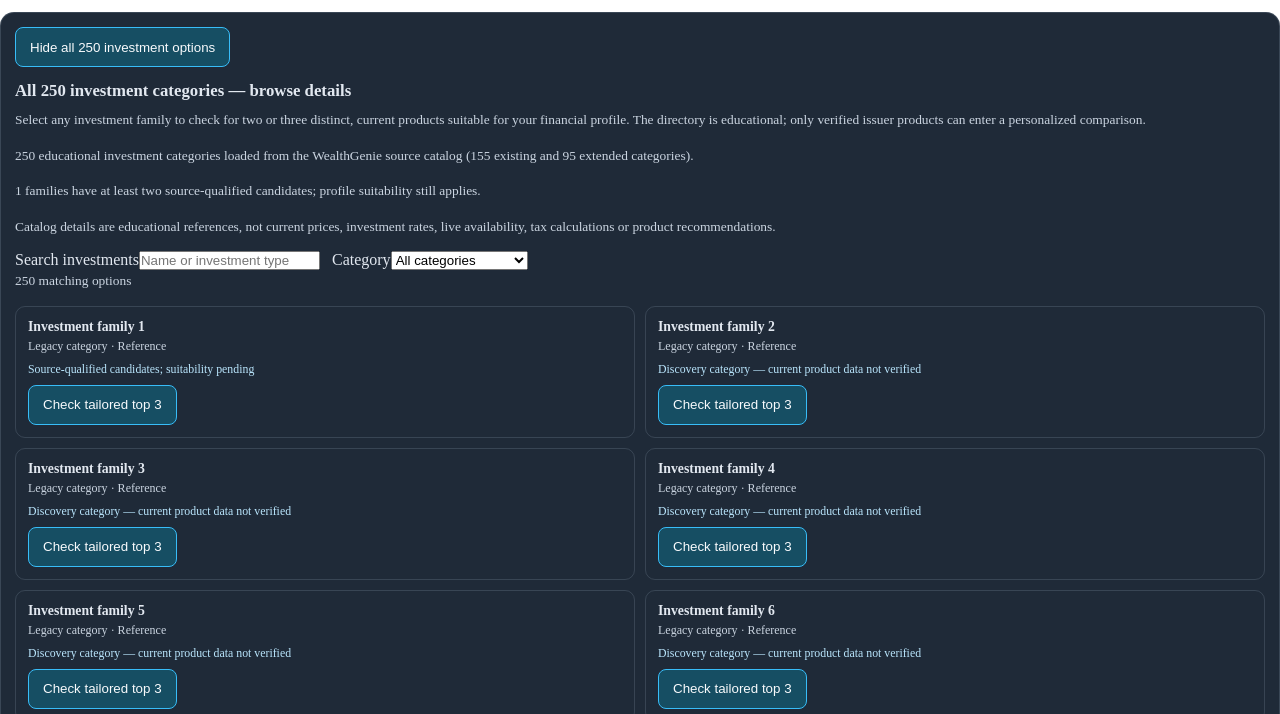
all 250 investment categories are browseable without product approval › shows detailed educational metadata without a current price, fake fees or tax
This screenshot has width=1280, height=714.
Expected: the text "Investment family 1" is shown, [28, 318, 145, 334]
Click the button with aria-label "Check tailored top 3 for Investment family 1". click: (102, 404)
box: [28, 384, 176, 424]
(page scrolled)
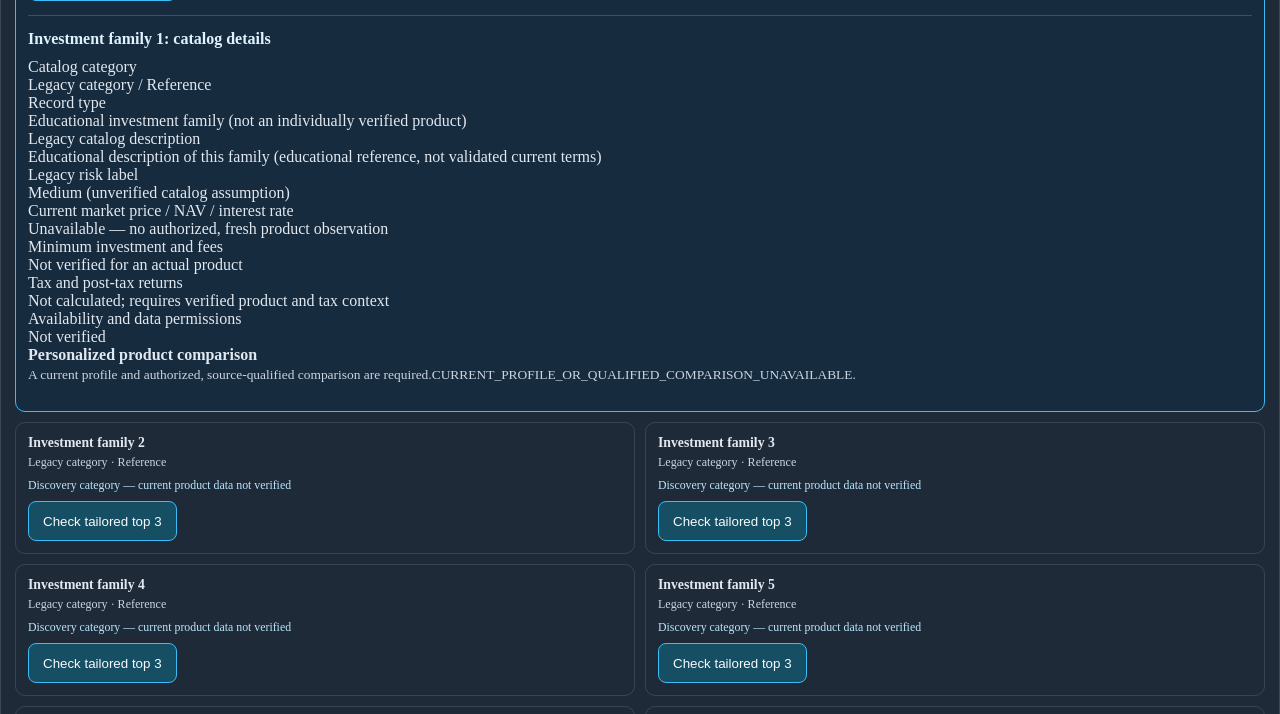
Expected: the text "Educational description of this family" is shown, [28, 148, 270, 164]
Expected: the text "Medium (unverified catalog assumption)" is shown, [28, 184, 290, 200]
Expected: the text "Not verified for an actual product" is shown, [28, 256, 243, 272]
